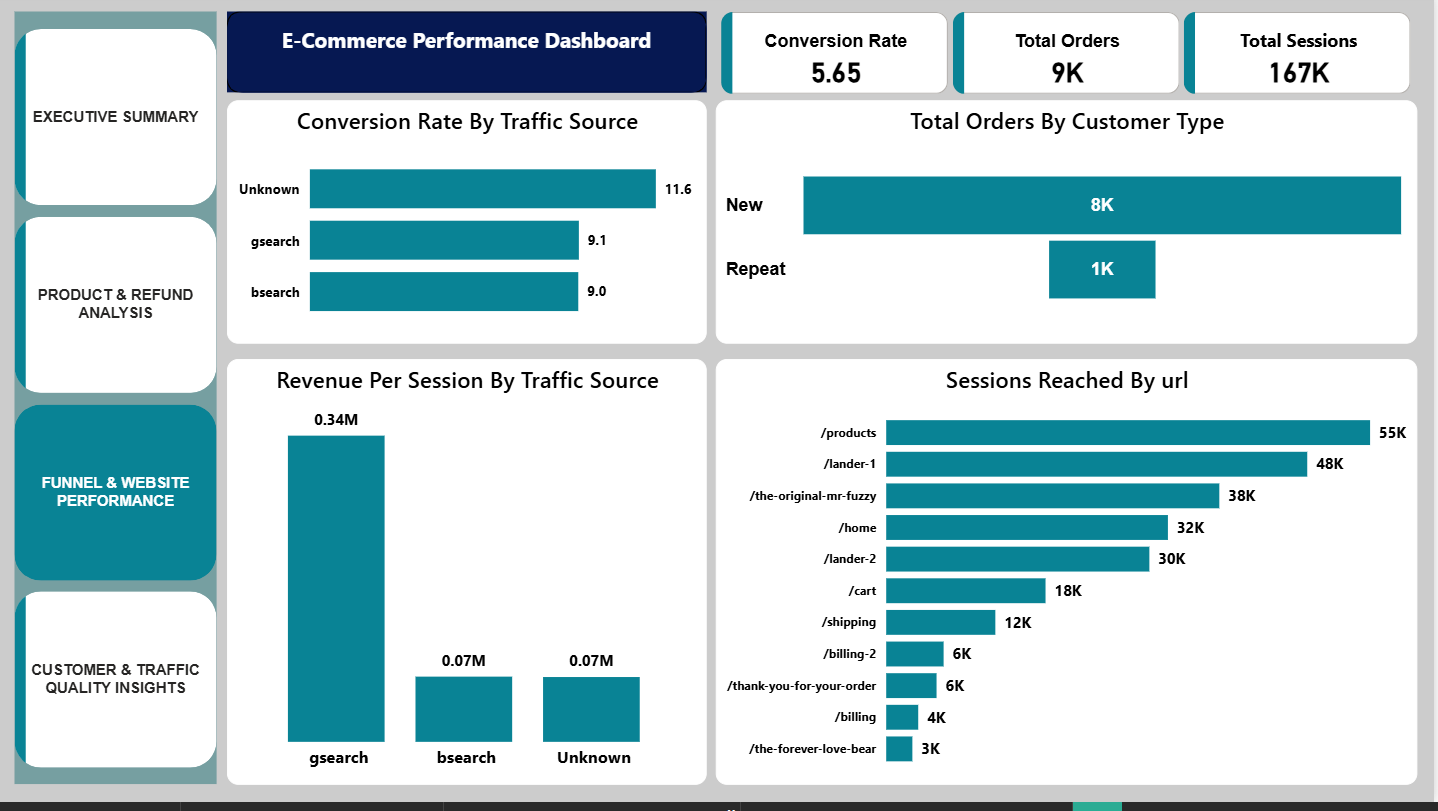

The dashboard page shown, as its layout file describes it:
{"tool":"powerbi","page":{"name":"FUNNEL & WEBSITE PERFORMANCE","canvas":[1280,720],"ordinal":2},"visuals":[{"type":"shape","box":[204.9,16,427,72.4],"z":0},{"type":"textbox","box":[204.9,17.2,427,71.2],"z":1000},{"type":"funnel","title":" Total Orders By Customer Type","fields":{"Category":["toy_store repeat_vs_new.Customer type"],"Y":["Sum(toy_store repeat_vs_new.orders)"]},"box":[640.5,94.5,624.5,217.2],"z":2000},{"type":"clusteredBarChart","title":" Conversion Rate By Traffic Source","fields":{"Category":["toy_store conversion_by_traffic.Traffic_Source"],"Y":["Sum(toy_store conversion_by_traffic.Conversion_rate_by_traffic)"]},"box":[204.9,94.5,427,217.2],"z":3000},{"type":"columnChart","title":" Revenue Per Session By Traffic Source","fields":{"Category":["toy_store revenue_by_session.Traffic Source"],"Y":["Sum(toy_store revenue_by_session.Revenue Per Session)"]},"box":[204.9,325.2,427,379.1],"z":4000},{"type":"clusteredBarChart","title":"Sessions Reached By url","fields":{"Category":["toy_store page_drop_off.pageview_url"],"Y":["Sum(toy_store page_drop_off.sessions_reached)"]},"box":[640.5,325.2,624.5,379.1],"z":5000},{"type":"cardVisual","fields":{"Data":["Sum(toy_store conversion_rate.Conversion Rate)","Sum(toy_store conversion_rate.orders)","Sum(toy_store conversion_rate.sessions)"]},"box":[640.5,11,624.5,83.4],"z":6000},{"type":"shape","box":[16,16,180.4,688.3],"z":7000},{"type":"pageNavigator","box":[16,30.7,180.4,660.1],"z":8000}]}

Visuals, with their boxes in screenshot pixels (x1, y1, x2, y2), scaled from the page's 1280x720 canvas onto the 1438x811 screenshot:
shape: left=230, top=18, right=710, bottom=100
textbox: left=230, top=19, right=710, bottom=100
" Total Orders By Customer Type" funnel: left=720, top=106, right=1421, bottom=351
" Conversion Rate By Traffic Source" clusteredBarChart: left=230, top=106, right=710, bottom=351
" Revenue Per Session By Traffic Source" columnChart: left=230, top=366, right=710, bottom=793
"Sessions Reached By url" clusteredBarChart: left=720, top=366, right=1421, bottom=793
cardVisual - Sum(toy_store conversion_rate.Conversion Rate) x Sum(toy_store conversion_rate.orders): left=720, top=12, right=1421, bottom=106
shape: left=18, top=18, right=221, bottom=793
pageNavigator: left=18, top=35, right=221, bottom=778
